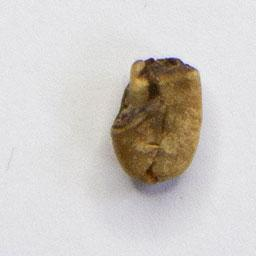defect: (107, 55, 205, 187)
